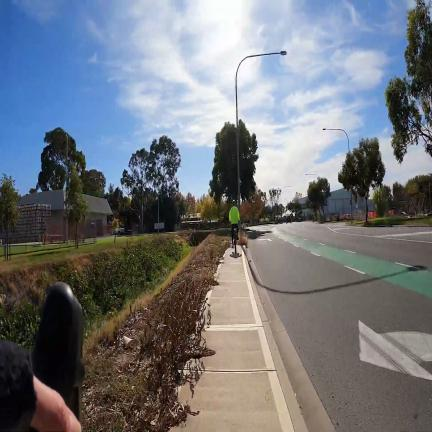Green_Bike_Lane: (272, 228, 432, 298)
